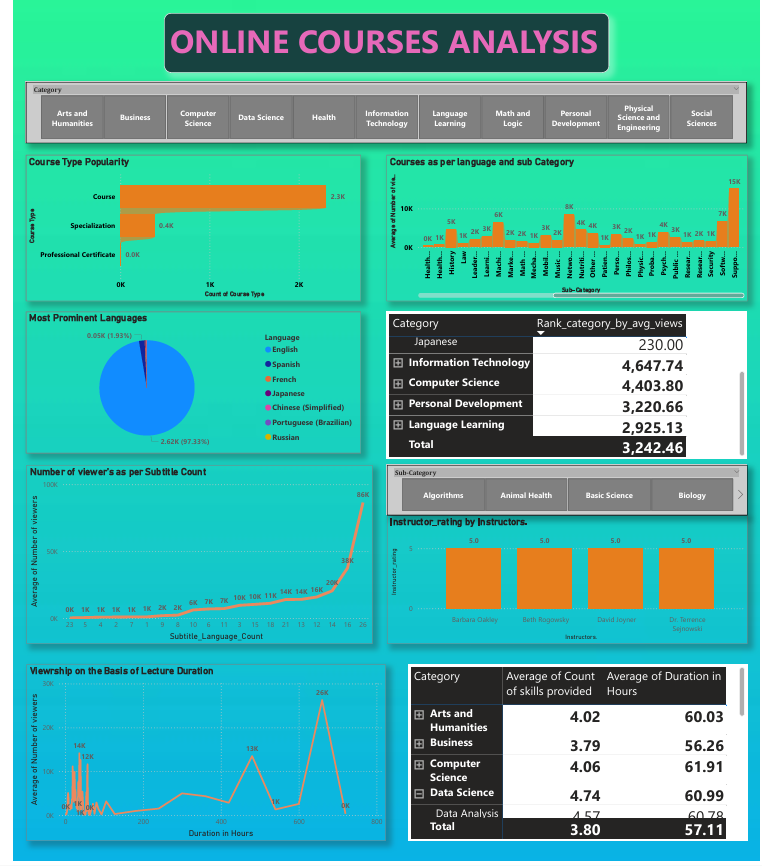

The page's visual inventory and layout, read from the dashboard file:
{"tool":"powerbi","page":{"name":"Page 1","canvas":[1300,1500],"ordinal":0},"visuals":[{"type":"textbox","box":[261.7,23.3,775,103.3],"z":0},{"type":"slicer","fields":{"Values":["Online_Courses.Category"]},"box":[21.4,142.9,1255.7,107.1],"z":1000},{"type":"barChart","title":"Course Type Popularity","fields":{"Y":["Online_Courses.Course Type"],"Category":["Online_Courses.Course Type"]},"box":[21.2,270,583.8,255],"z":2000},{"type":"columnChart","title":"Courses as per language and sub Category","fields":{"Category":["Online_Courses.Sub-Category","Online_Courses.Language"],"Y":["Online_Courses.Number of viewers"]},"box":[648.8,270,628.8,255],"z":3000},{"type":"pieChart","title":"Most Prominent Languages","fields":{"Category":["Online_Courses.Language"],"Y":["Online_Courses.Course Id"]},"box":[21.2,542.5,583.8,247.5],"z":4000},{"type":"pivotTable","fields":{"Rows":["Online_Courses.Category","Online_Courses.Language"],"Values":["Online_Courses.Rank_category_by_avg_views"]},"box":[650,542.5,627.5,257.5],"z":5000},{"type":"lineChart","title":"Number of viewer''s as per Subtitle Count","fields":{"Category":["Online_Courses.Subtitle_Language_Count"],"Y":["Online_Courses.Number of viewers"]},"box":[21.7,810,603.3,311.7],"z":6000},{"type":"columnChart","fields":{"Category":["Teachers.Instructors."],"Y":["Teachers.Instructor_rating"]},"box":[650,898.3,628.3,223.3],"z":7000},{"type":"slicer","fields":{"Values":["Teachers.Sub-Category"]},"box":[650,810,628.3,88.3],"z":8000},{"type":"lineChart","title":"Viewrship on the Basis of Lecture Duration","fields":{"Category":["Online_Courses.Duration in Hours"],"Y":["Online_Courses.Number of viewers"]},"box":[21.7,1156.7,626.7,308.3],"z":9000},{"type":"pivotTable","fields":{"Rows":["Online_Courses.Category","Online_Courses.Sub-Category"],"Values":["Online_Courses.Count of skills provided","Online_Courses.Duration in Hours"]},"box":[686.7,1156.7,591.7,308.3],"z":10000}]}

Visuals, with their boxes in screenshot pixels (x1, y1, x2, y2), scaled from the page's 1300x1500 canvas onto the 762x866 screenshot:
textbox: [153, 13, 608, 73]
slicer - Online_Courses.Category: [13, 83, 749, 144]
"Course Type Popularity" barChart: [12, 156, 355, 303]
"Courses as per language and sub Category" columnChart: [380, 156, 749, 303]
"Most Prominent Languages" pieChart: [12, 313, 355, 456]
pivotTable - Online_Courses.Category x Online_Courses.Language: [381, 313, 749, 462]
"Number of viewer''s as per Subtitle Count" lineChart: [13, 468, 366, 648]
columnChart - Teachers.Instructors. x Teachers.Instructor_rating: [381, 519, 749, 648]
slicer - Teachers.Sub-Category: [381, 468, 749, 519]
"Viewrship on the Basis of Lecture Duration" lineChart: [13, 668, 380, 846]
pivotTable - Online_Courses.Category x Online_Courses.Sub-Category: [403, 668, 749, 846]
